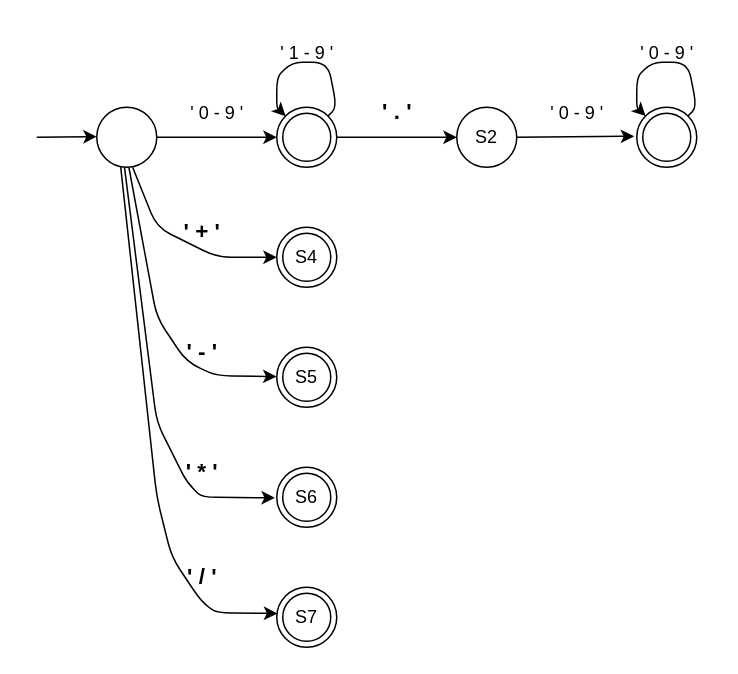
Image size: 738x674. Some labels were removed from this diagram. Each missing label, with the centre of its shape:
S0: (x=126, y=136)
S1: (x=306, y=136)
S3: (x=666, y=136)
